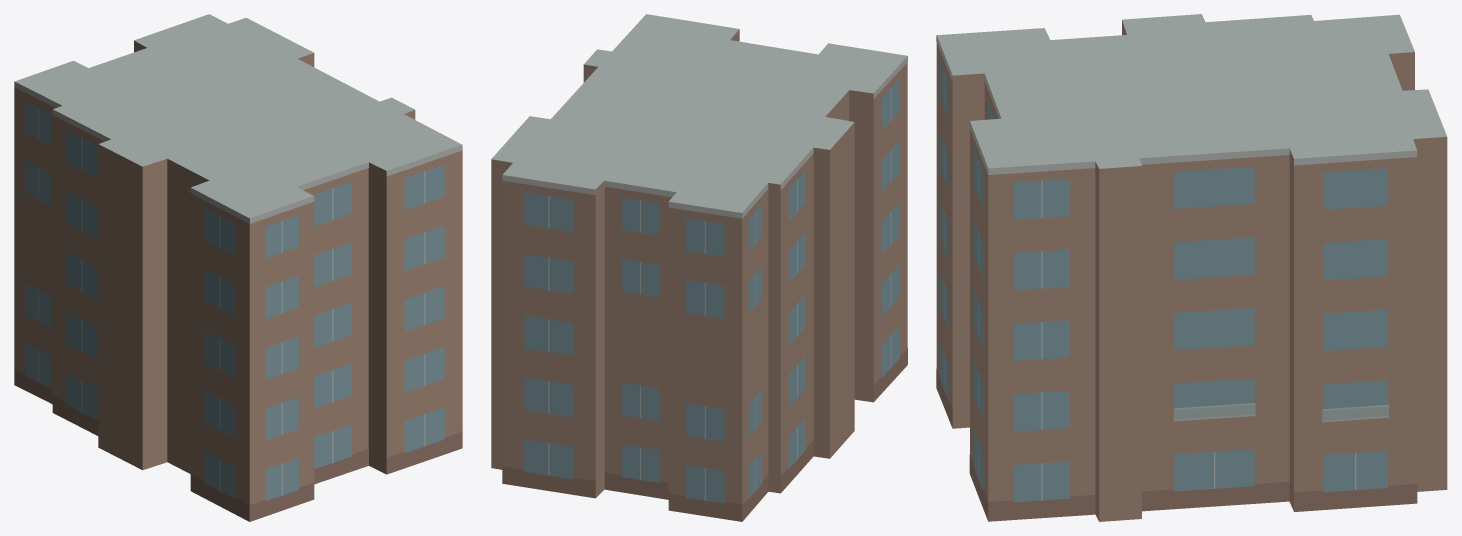
Rendered from survey-upis-32980466.glb.
3 renders of one model, left to right at view 1: azimuth 30°, elevation 25°; view 2: azimuth 150°, elevation 25°; view 3: azimuth 270°, elevation 25°, orthographic. The views are drawn at different scales.
Visible parts, largest first — view 1: survey-upis-32980466.tmp; view 2: survey-upis-32980466.tmp; view 3: survey-upis-32980466.tmp.
Part boxes in pixels (x1,y1,x2,y2): survey-upis-32980466.tmp: [14, 14, 462, 521]; survey-upis-32980466.tmp: [491, 14, 907, 521]; survey-upis-32980466.tmp: [936, 14, 1447, 521].
Size of the model in its own units: 12.33 by 13.1 by 17.19.
